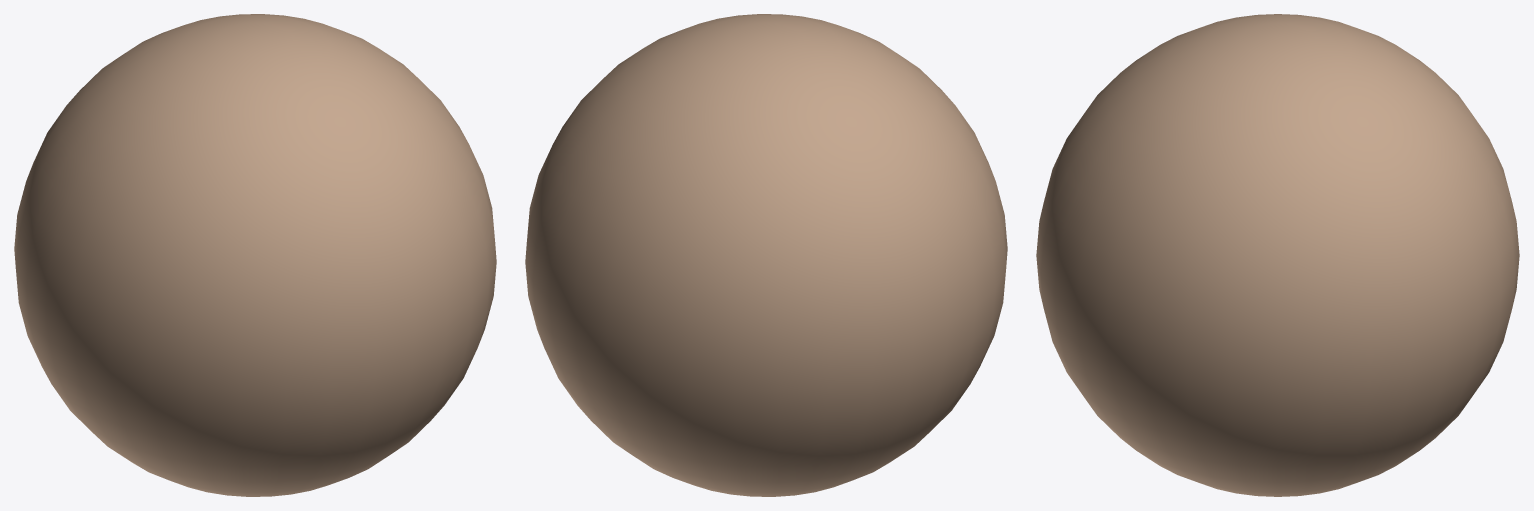
File: pluto.glb
3 views of the same model, side by side, from view 1: azimuth 30°, elevation 25°; view 2: azimuth 150°, elevation 25°; view 3: azimuth 270°, elevation 25° (orthographic).
Parts seen in each view (by area): view 1: pluto; view 2: pluto; view 3: pluto.
Boxes of the visible parts, x1,y1,x2,y2 form: pluto: [14, 14, 496, 496]; pluto: [525, 14, 1007, 496]; pluto: [1036, 14, 1519, 496].
Bounding box in the file's own units: 2 × 2 × 2.
